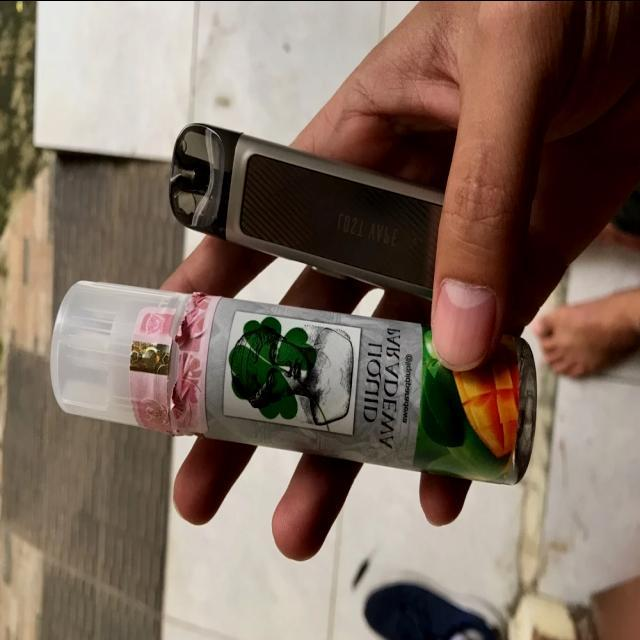Hazard: (168, 121, 443, 303)
